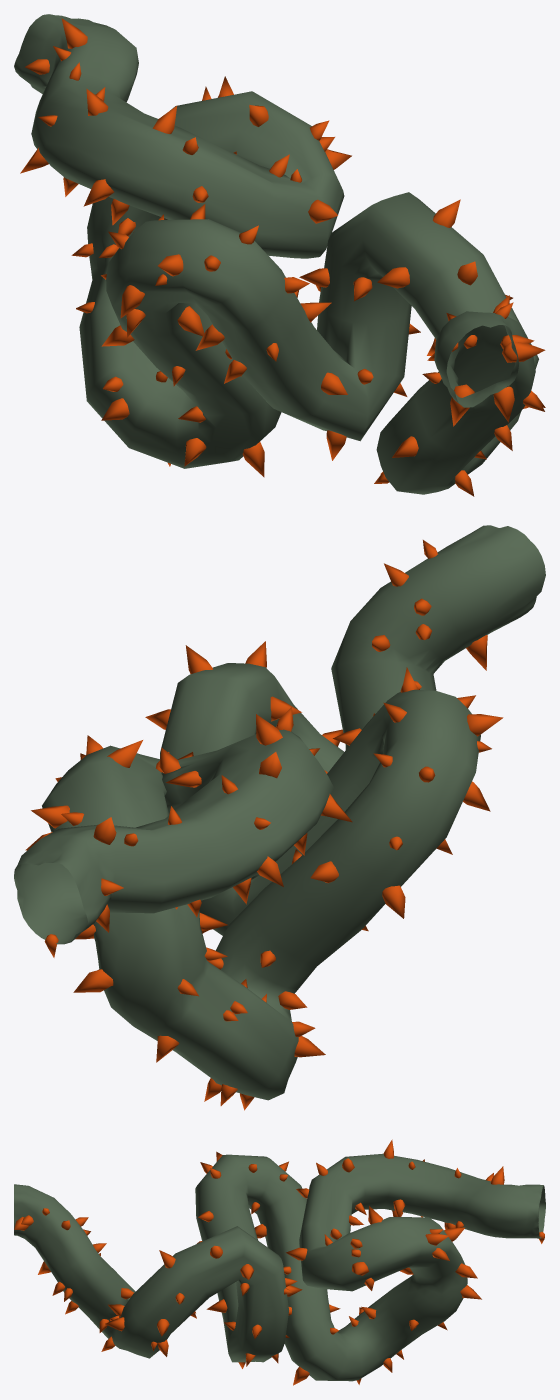
Rendered from Ciernie3.fbx.
3 renders of one model, top to bottom at view 1: azimuth 30°, elevation 25°; view 2: azimuth 150°, elevation 25°; view 3: azimuth 270°, elevation 25°, orthographic. The views are drawn at different scales.
Visible parts, largest first — view 1: Ciernie3; view 2: Ciernie3; view 3: Ciernie3.
Boxes of the visible parts, left/top/right/bottom form: Ciernie3: left=14, top=14, right=545, bottom=496; Ciernie3: left=14, top=525, right=545, bottom=1110; Ciernie3: left=14, top=1139, right=545, bottom=1385.
Size of the model in its own units: 3.67 by 3.73 by 7.84.
